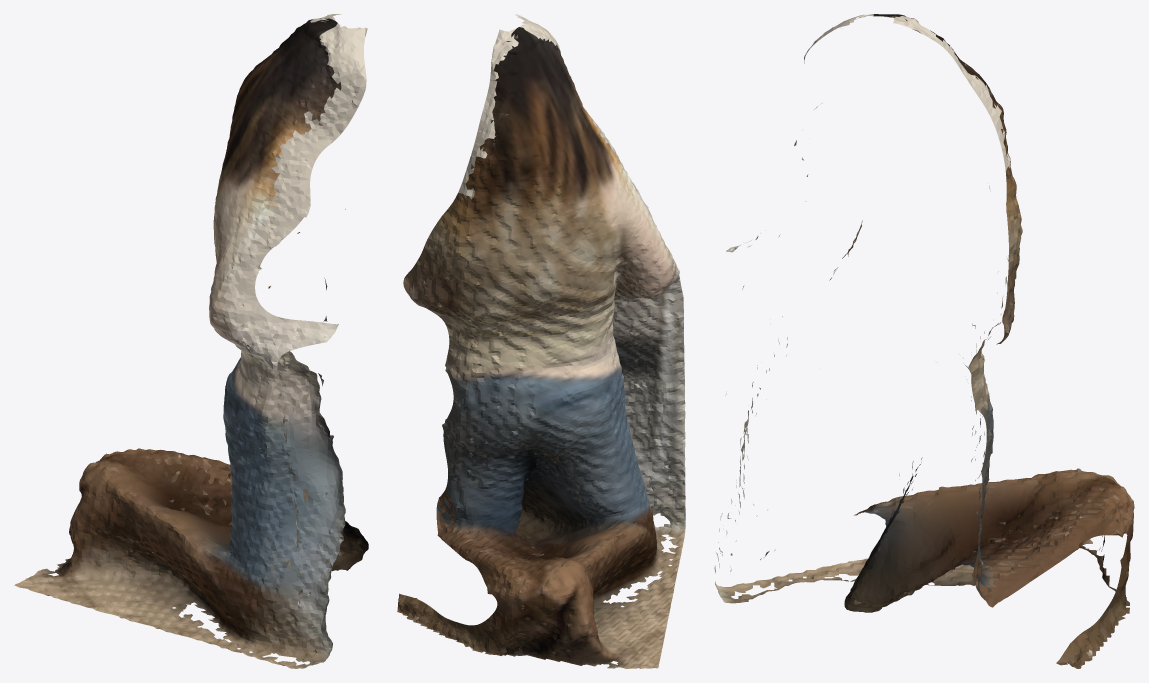
3 views of the same model, side by side, from view 1: azimuth 30°, elevation 25°; view 2: azimuth 150°, elevation 25°; view 3: azimuth 270°, elevation 25° (orthographic). The views are drawn at different scales.
Bounding box in the file's own units: 0.6297 × 1.13 × 0.6829.
Materials: 1 (1 with a texture image).
